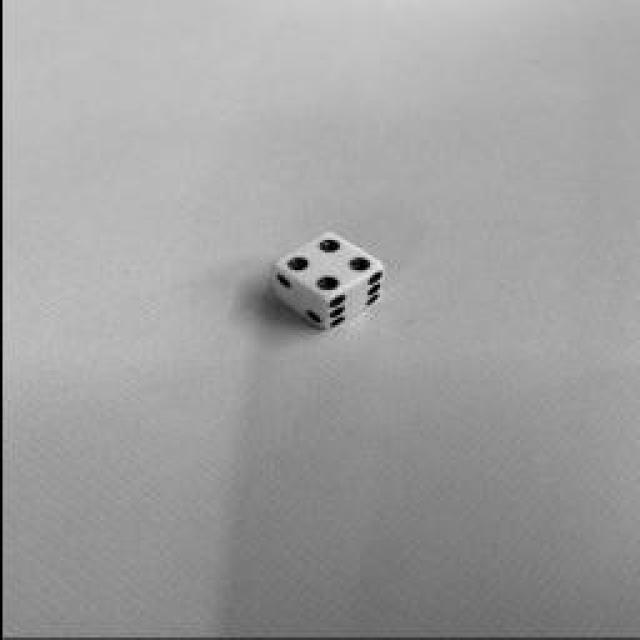dice_4: (272, 234, 376, 298)
